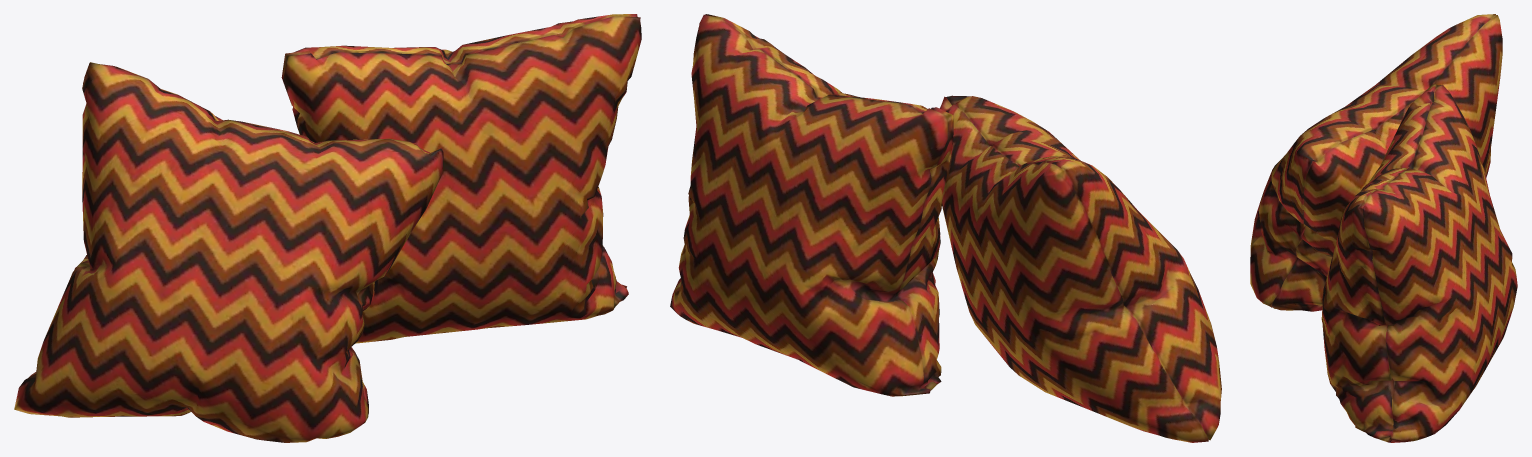
File: throw_pillows_01.glb
The picture shows the model from 3 angles, left to right: view 1: azimuth 30°, elevation 25°; view 2: azimuth 150°, elevation 25°; view 3: azimuth 270°, elevation 25°; orthographic projection. The views are drawn at different scales.
Parts seen in each view (by area): view 1: throw_pillows_01_pillow02; view 2: throw_pillows_01_pillow02; view 3: throw_pillows_01_pillow02.
Boxes of the visible parts, x1=… form: throw_pillows_01_pillow02: x1=14, y1=14, x2=641, y2=442; throw_pillows_01_pillow02: x1=670, y1=14, x2=1221, y2=442; throw_pillows_01_pillow02: x1=1250, y1=14, x2=1517, y2=442.
Bounding box in the file's own units: 0.9401 × 0.4499 × 0.4504.
1 material, 1 textured.
